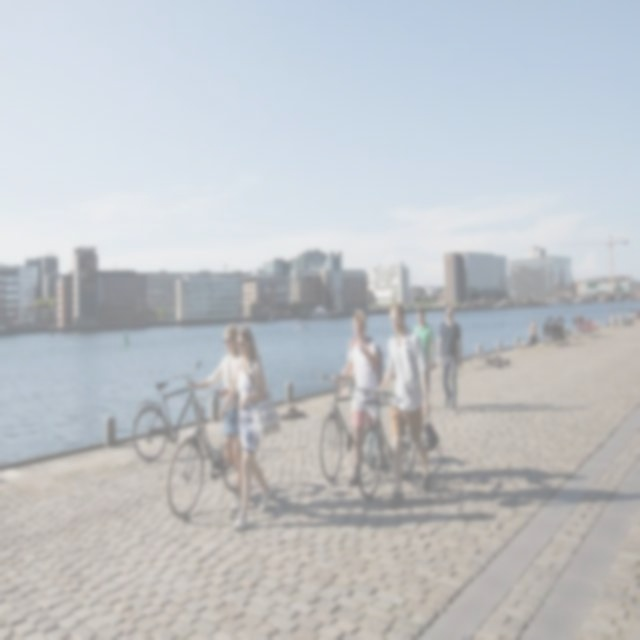pessoa: (260, 458, 640, 538), (369, 300, 446, 510), (215, 321, 282, 534), (190, 322, 244, 514), (332, 304, 384, 488), (435, 304, 464, 416), (411, 306, 436, 396), (608, 305, 640, 328), (526, 316, 538, 348)
